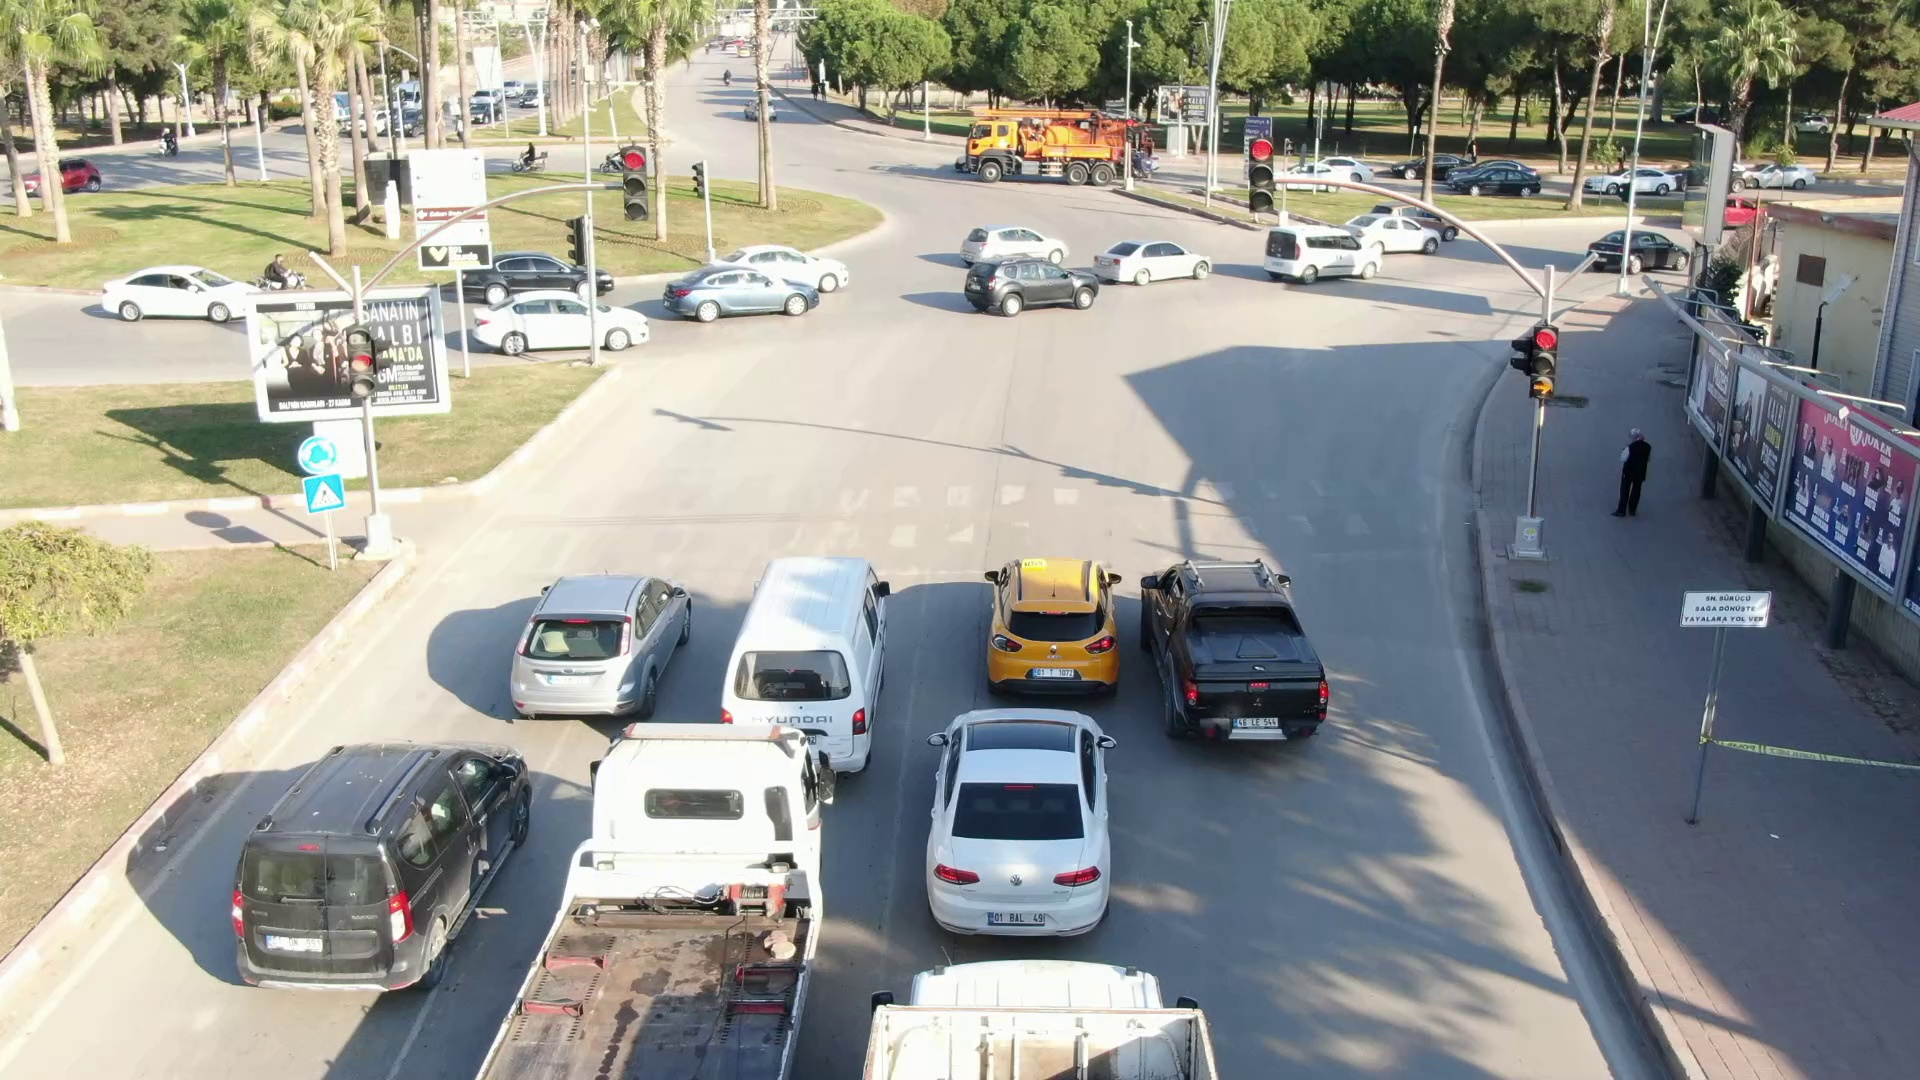car: (227, 731, 539, 988), (924, 700, 1112, 936), (1131, 549, 1331, 756), (506, 568, 699, 723), (977, 555, 1125, 698), (468, 286, 641, 359), (94, 265, 272, 328), (662, 264, 822, 320), (963, 251, 1102, 315), (462, 255, 609, 303), (1263, 224, 1385, 282), (1087, 236, 1218, 287), (1585, 227, 1691, 277), (1445, 167, 1552, 200), (1584, 164, 1677, 195)
